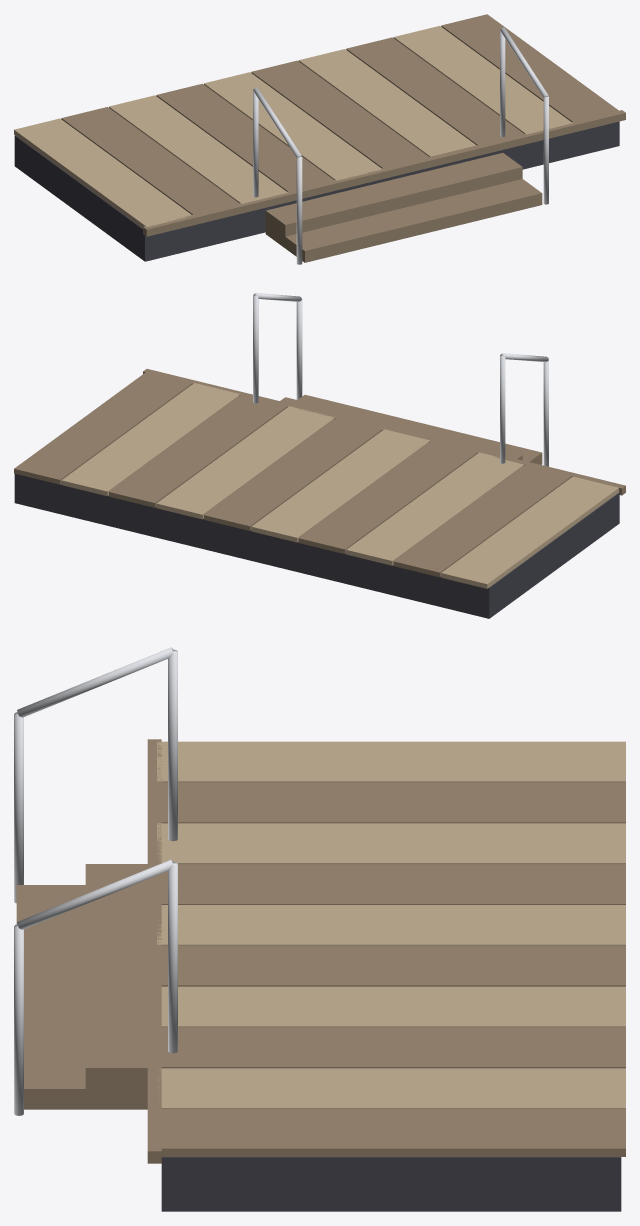
Rendered from rally-stage.glb.
3 renders of one model, top to bottom at view 1: azimuth 30°, elevation 25°; view 2: azimuth 150°, elevation 25°; view 3: azimuth 270°, elevation 25°, orthographic. The views are drawn at different scales.
Visible parts, largest first — view 1: RallyStage; view 2: RallyStage; view 3: RallyStage.
Part boxes in pixels (x1,y1,x2,y2): RallyStage: [14, 14, 625, 264]; RallyStage: [14, 293, 625, 618]; RallyStage: [14, 647, 625, 1211].
Size of the model in its own units: 4.24 by 1.22 by 2.66.
